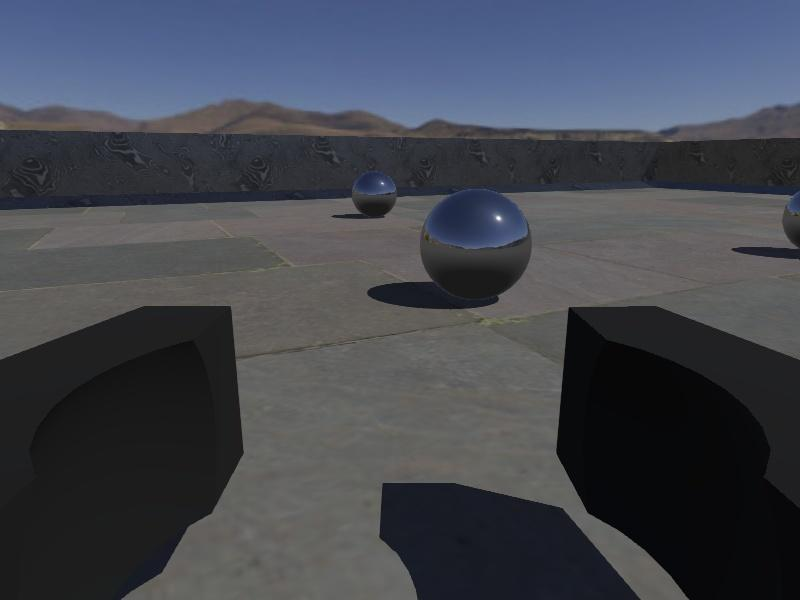steel ball: (420, 188, 534, 301), (351, 170, 398, 218)
